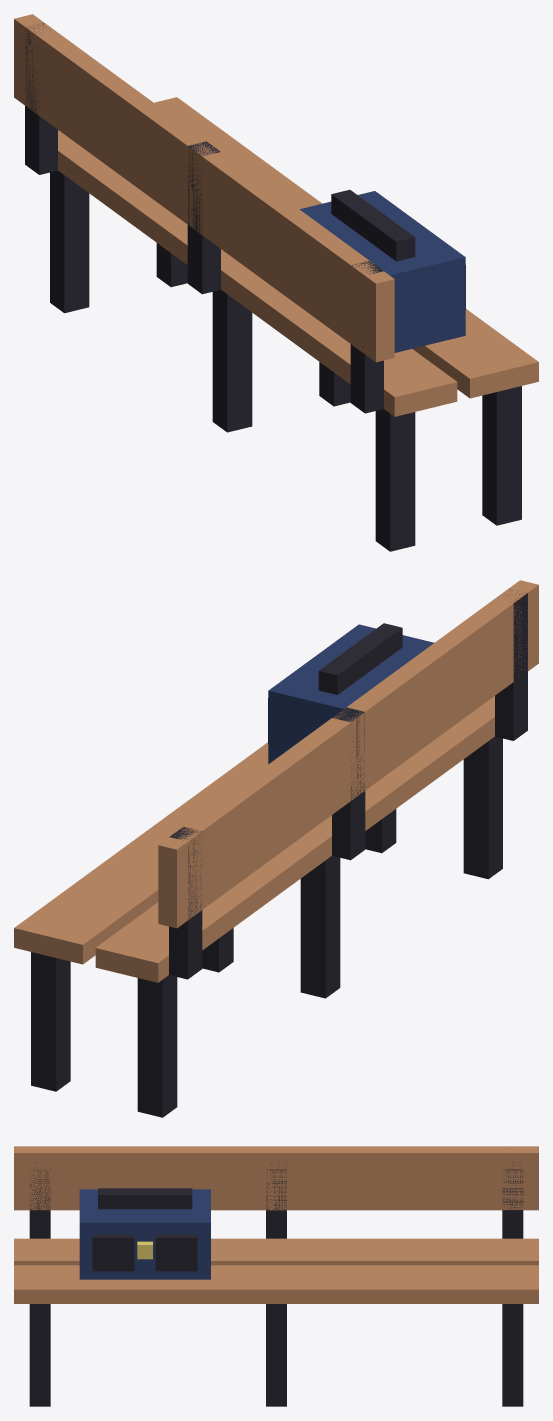
Rendered from bench.glb.
The picture shows the model from 3 angles, top to bottom: view 1: azimuth 30°, elevation 25°; view 2: azimuth 150°, elevation 25°; view 3: azimuth 270°, elevation 25°; orthographic projection. The views are drawn at different scales.
Visible parts, largest first — view 1: Back, Slat0, Boom, Slat1, LegA2, LegA1, LegB2, LegA0, Handle, Post1, Post0, Post2 (+2 smaller); view 2: Back, Slat0, Slat1, Boom, LegA0, LegA1, LegB0, LegA2, Post2, Handle, Post0, Post1 (+2 smaller); view 3: Back, Slat1, Slat0, Boom, LegB0, LegB2, LegB1, Handle, SpkA, SpkB, Post2, Post0 (+1 smaller).
Part boxes in pixels (left/top/right/bottom): Back: left=14, top=14, right=394, bottom=362; Slat0: left=58, top=130, right=457, bottom=416; Boom: left=300, top=191, right=465, bottom=352; Slat1: left=154, top=97, right=538, bottom=398; LegA2: left=375, top=409, right=415, bottom=551; LegA1: left=212, top=290, right=252, bottom=432; LegB2: left=482, top=386, right=521, bottom=525; LegA0: left=50, top=170, right=89, bottom=313; Handle: left=331, top=189, right=415, bottom=261; Post1: left=187, top=141, right=220, bottom=294; Post0: left=25, top=23, right=57, bottom=174; Post2: left=350, top=260, right=383, bottom=413; Back: left=158, top=580, right=538, bottom=928; Slat0: left=95, top=696, right=494, bottom=982; Slat1: left=14, top=742, right=268, bottom=964; Boom: left=268, top=624, right=434, bottom=764; LegA0: left=137, top=975, right=177, bottom=1117; LegA1: left=300, top=856, right=340, bottom=998; LegB0: left=31, top=952, right=70, bottom=1091; LegA2: left=463, top=736, right=502, bottom=879; Post2: left=495, top=589, right=527, bottom=740; Handle: left=318, top=623, right=402, bottom=694; Post0: left=169, top=826, right=202, bottom=979; Post1: left=332, top=707, right=365, bottom=860; Back: left=14, top=1146, right=538, bottom=1210; Slat1: left=14, top=1265, right=538, bottom=1303; Slat0: left=14, top=1238, right=538, bottom=1265; Boom: left=79, top=1189, right=210, bottom=1279; LegB0: left=502, top=1304, right=523, bottom=1406; LegB2: left=29, top=1304, right=50, bottom=1406; LegB1: left=266, top=1304, right=286, bottom=1406; Handle: left=98, top=1188, right=192, bottom=1209; SpkA: left=155, top=1234, right=197, bottom=1271; SpkB: left=92, top=1234, right=134, bottom=1271; Post2: left=29, top=1163, right=50, bottom=1238; Post0: left=502, top=1162, right=523, bottom=1238.
Bounding box in the file's own units: 0.52 × 0.86 × 2.
